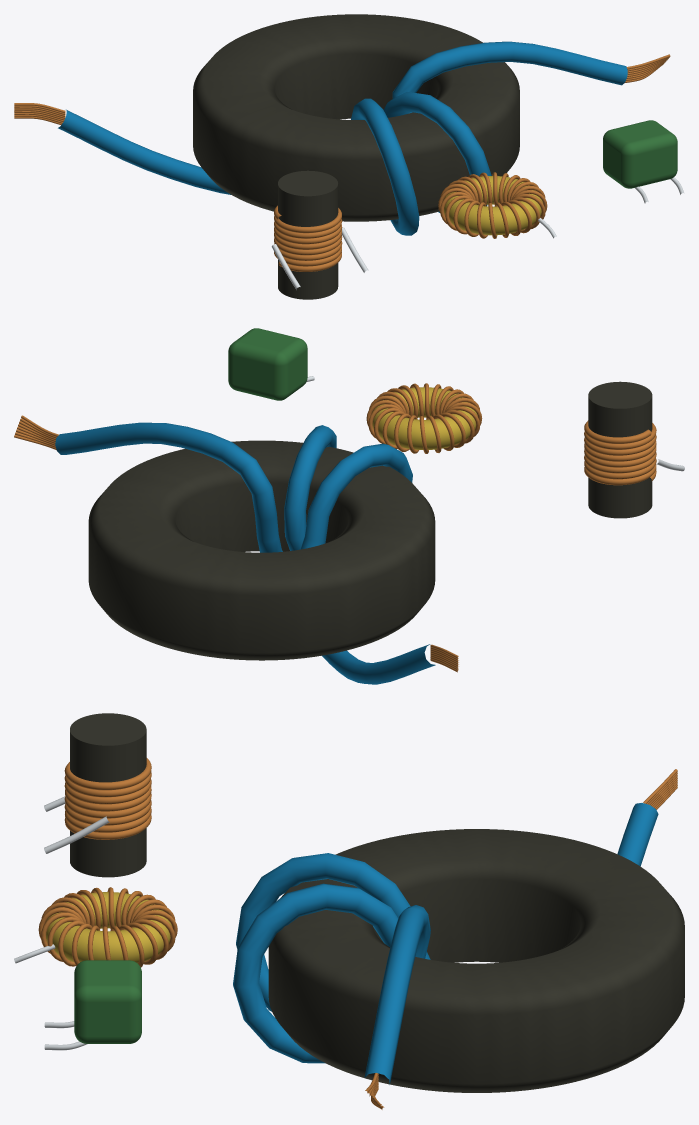
The model's file is components-03.glb.
3 views of the same model, one above another, from view 1: azimuth 30°, elevation 25°; view 2: azimuth 150°, elevation 25°; view 3: azimuth 270°, elevation 25° (orthographic). The views are drawn at different scales.
Parts seen in each view (by area): view 1: core, winding, rod, toroid, molded, ends; view 2: core, winding, rod, toroid, molded, ends; view 3: core, winding, rod, toroid, molded, ends.
Boxes of the visible parts, x1,y1,x2,y2 form: core: [193, 14, 519, 221]; winding: [58, 41, 627, 235]; rod: [271, 170, 368, 299]; toroid: [438, 172, 556, 238]; molded: [603, 120, 684, 203]; ends: [14, 54, 670, 124]; core: [88, 440, 435, 660]; winding: [55, 422, 435, 684]; rod: [584, 381, 684, 518]; toroid: [366, 383, 482, 453]; molded: [228, 328, 314, 400]; ends: [14, 415, 458, 672]; core: [268, 829, 684, 1092]; winding: [233, 803, 658, 1084]; rod: [44, 713, 151, 877]; toroid: [14, 887, 177, 967]; molded: [44, 960, 141, 1050]; ends: [365, 769, 677, 1109].
Bounding box in the file's own units: 3.63 × 1.04 × 3.09.
